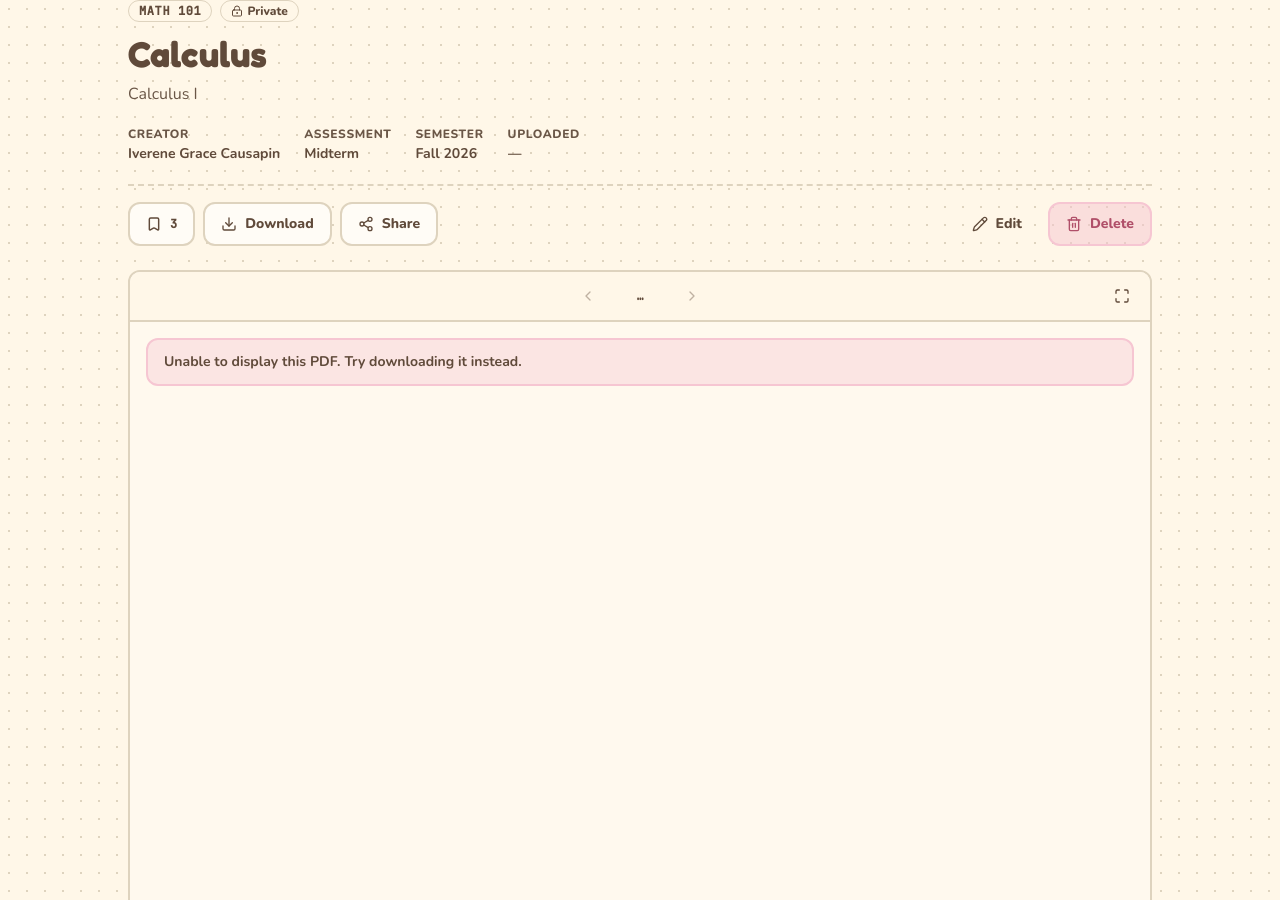
Test: Reviewer › warns the owner when the shared link only works for them
Click the button "Share" at (389, 224), box [340,202,438,246]
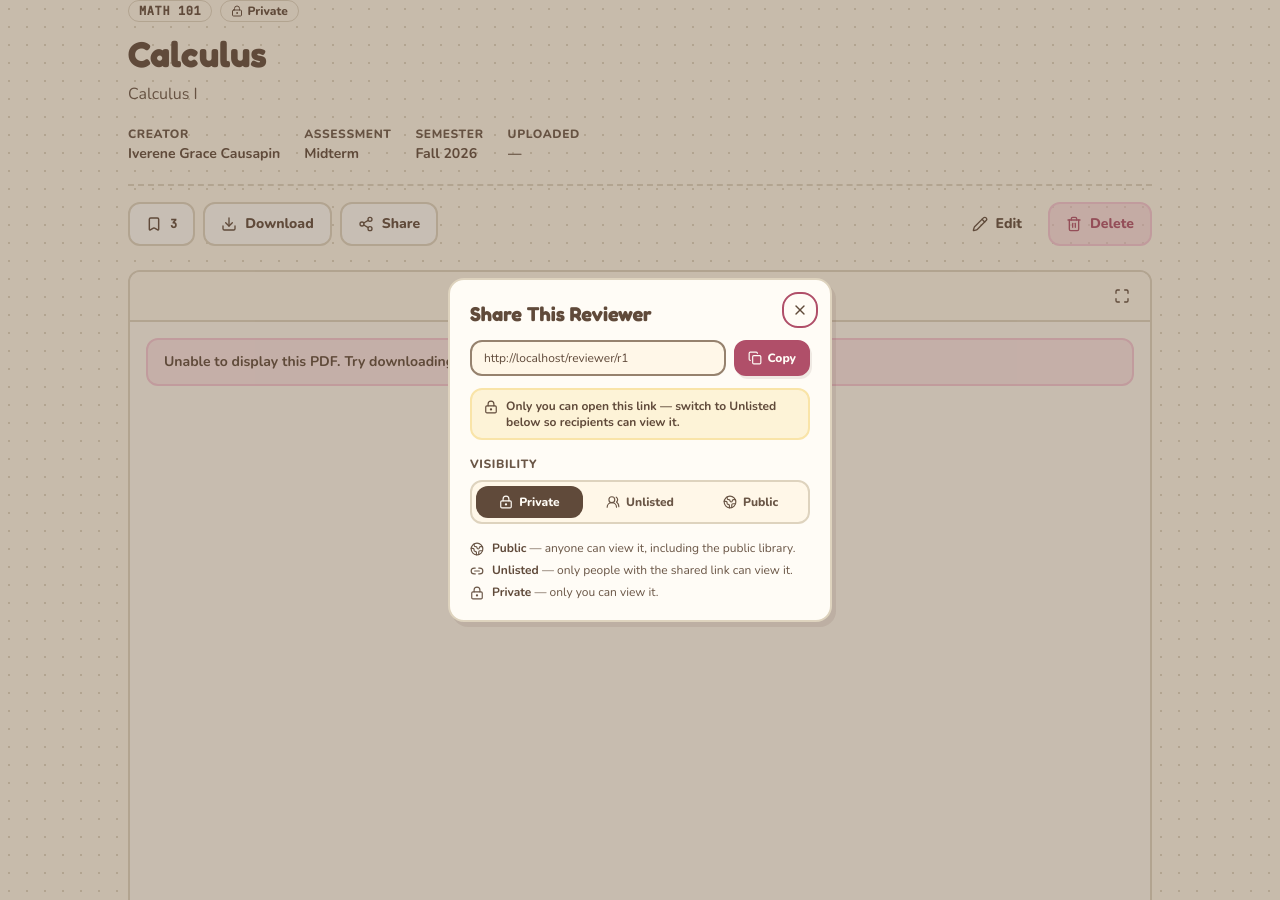
Now the dialog "Share This Reviewer" is shown, box [448,278,832,622]
